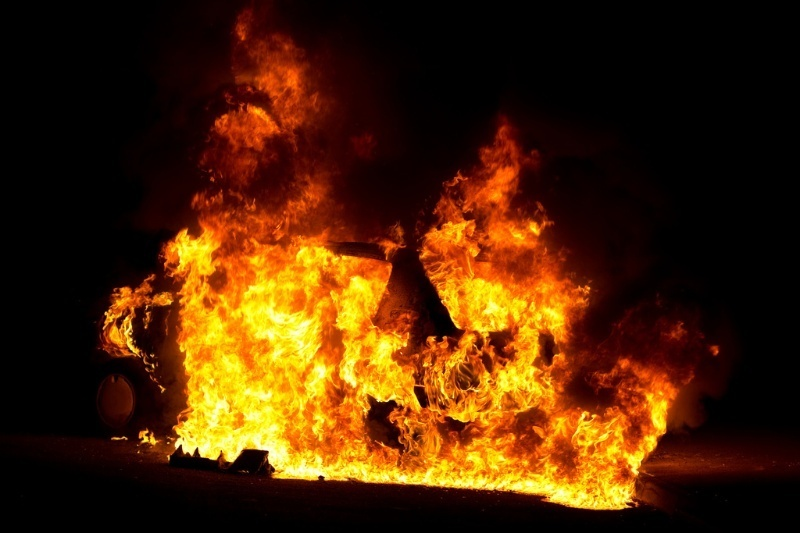fire: (74, 59, 757, 509)
